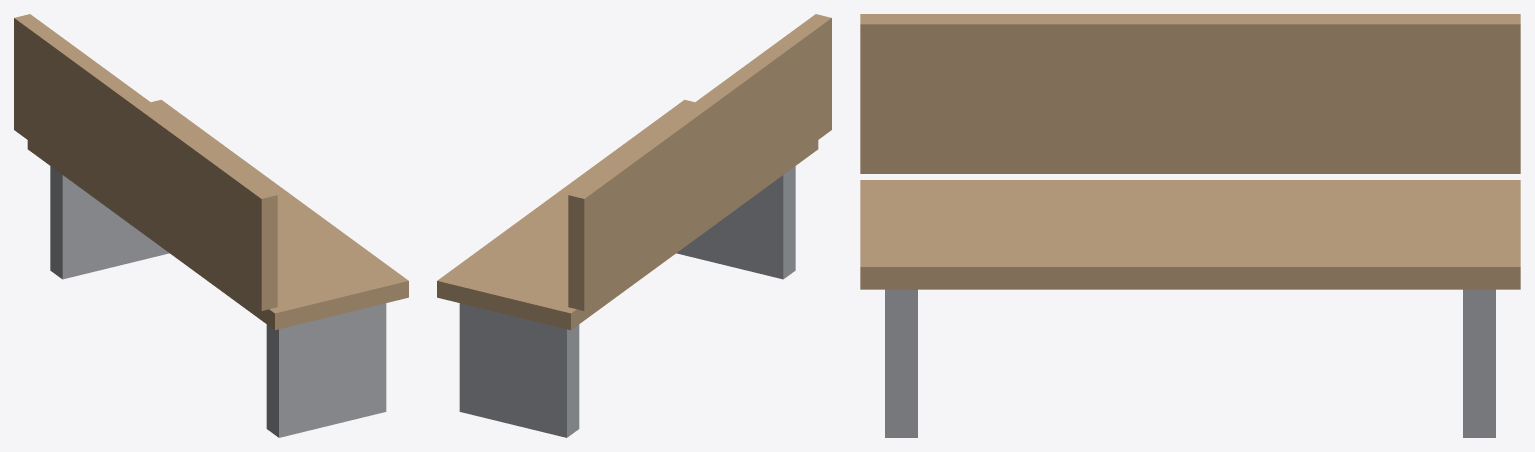
File: Prop_Bench.fbx
3 renders of one model, left to right at view 1: azimuth 30°, elevation 25°; view 2: azimuth 150°, elevation 25°; view 3: azimuth 270°, elevation 25°, orthographic. The views are drawn at different scales.
Visible parts, largest first — view 1: Prop_Bench; view 2: Prop_Bench; view 3: Prop_Bench.
Boxes of the visible parts, x1=… form: Prop_Bench: x1=14, y1=14, x2=408, y2=437; Prop_Bench: x1=437, y1=14, x2=831, y2=437; Prop_Bench: x1=860, y1=14, x2=1520, y2=437.
Bounding box in the file's own units: 0.55 × 0.9 × 1.6.
